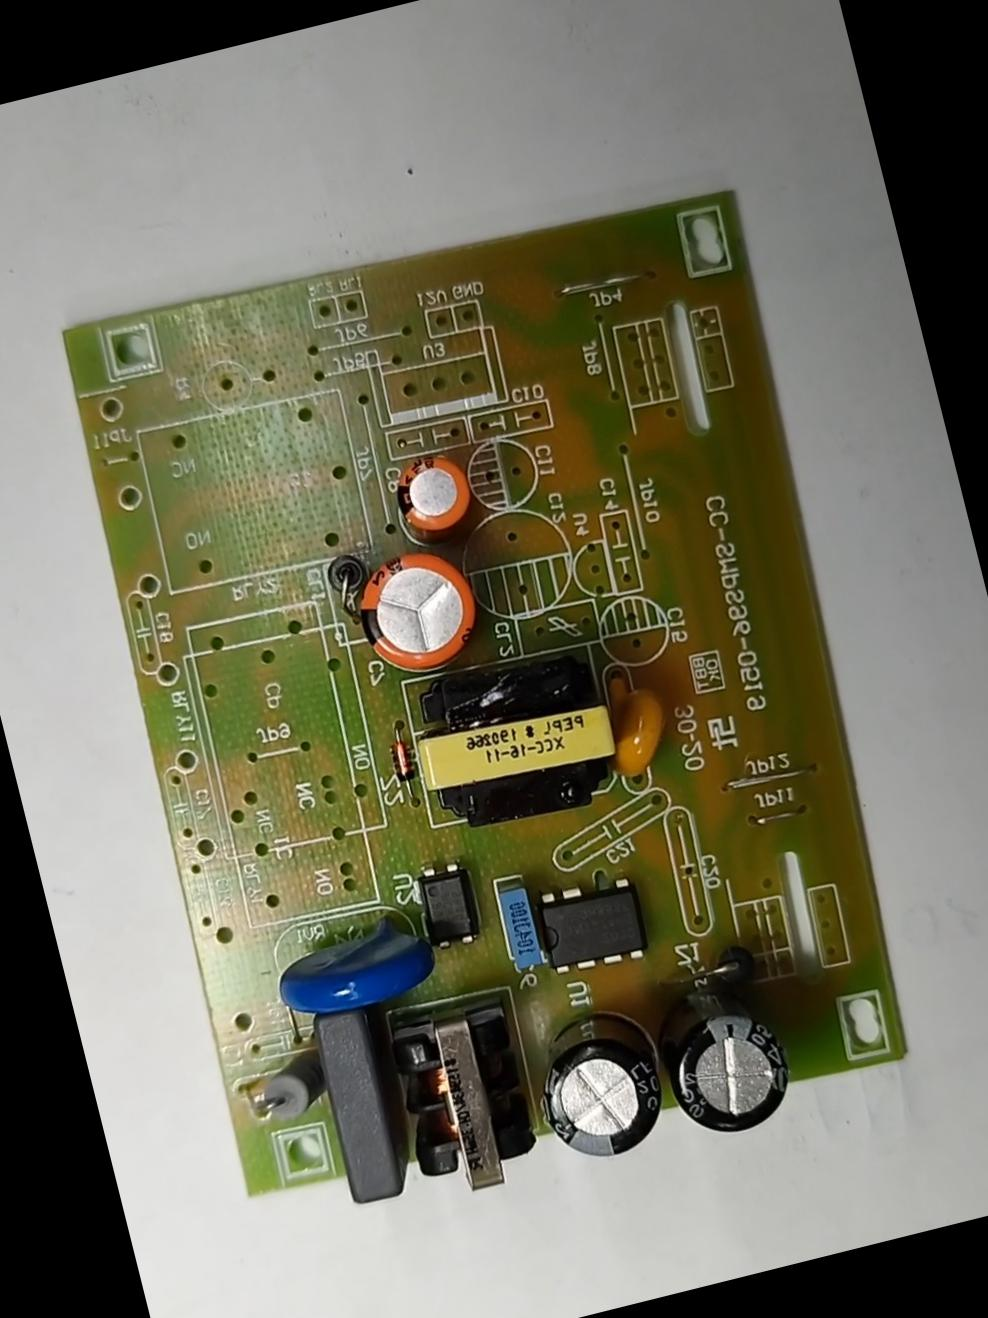Cap1: (349, 536, 484, 681)
Cap2: (384, 454, 474, 539)
Cap3: (519, 994, 680, 1174)
Cap4: (651, 963, 805, 1145)
MOSFET: (530, 868, 648, 981)
Mov: (260, 900, 442, 1025)
Resistor: (243, 1040, 328, 1126)
Transformer: (402, 635, 629, 843), (381, 992, 544, 1206)
